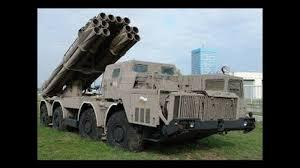MIL_SAM_TEL: (36, 12, 251, 151)
